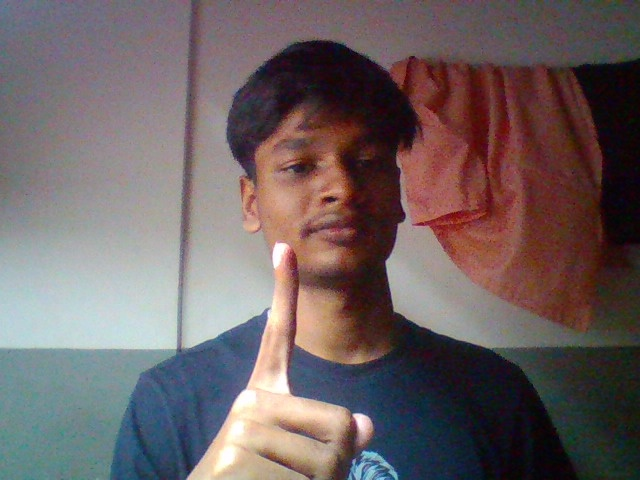I: (158, 230, 371, 480)
